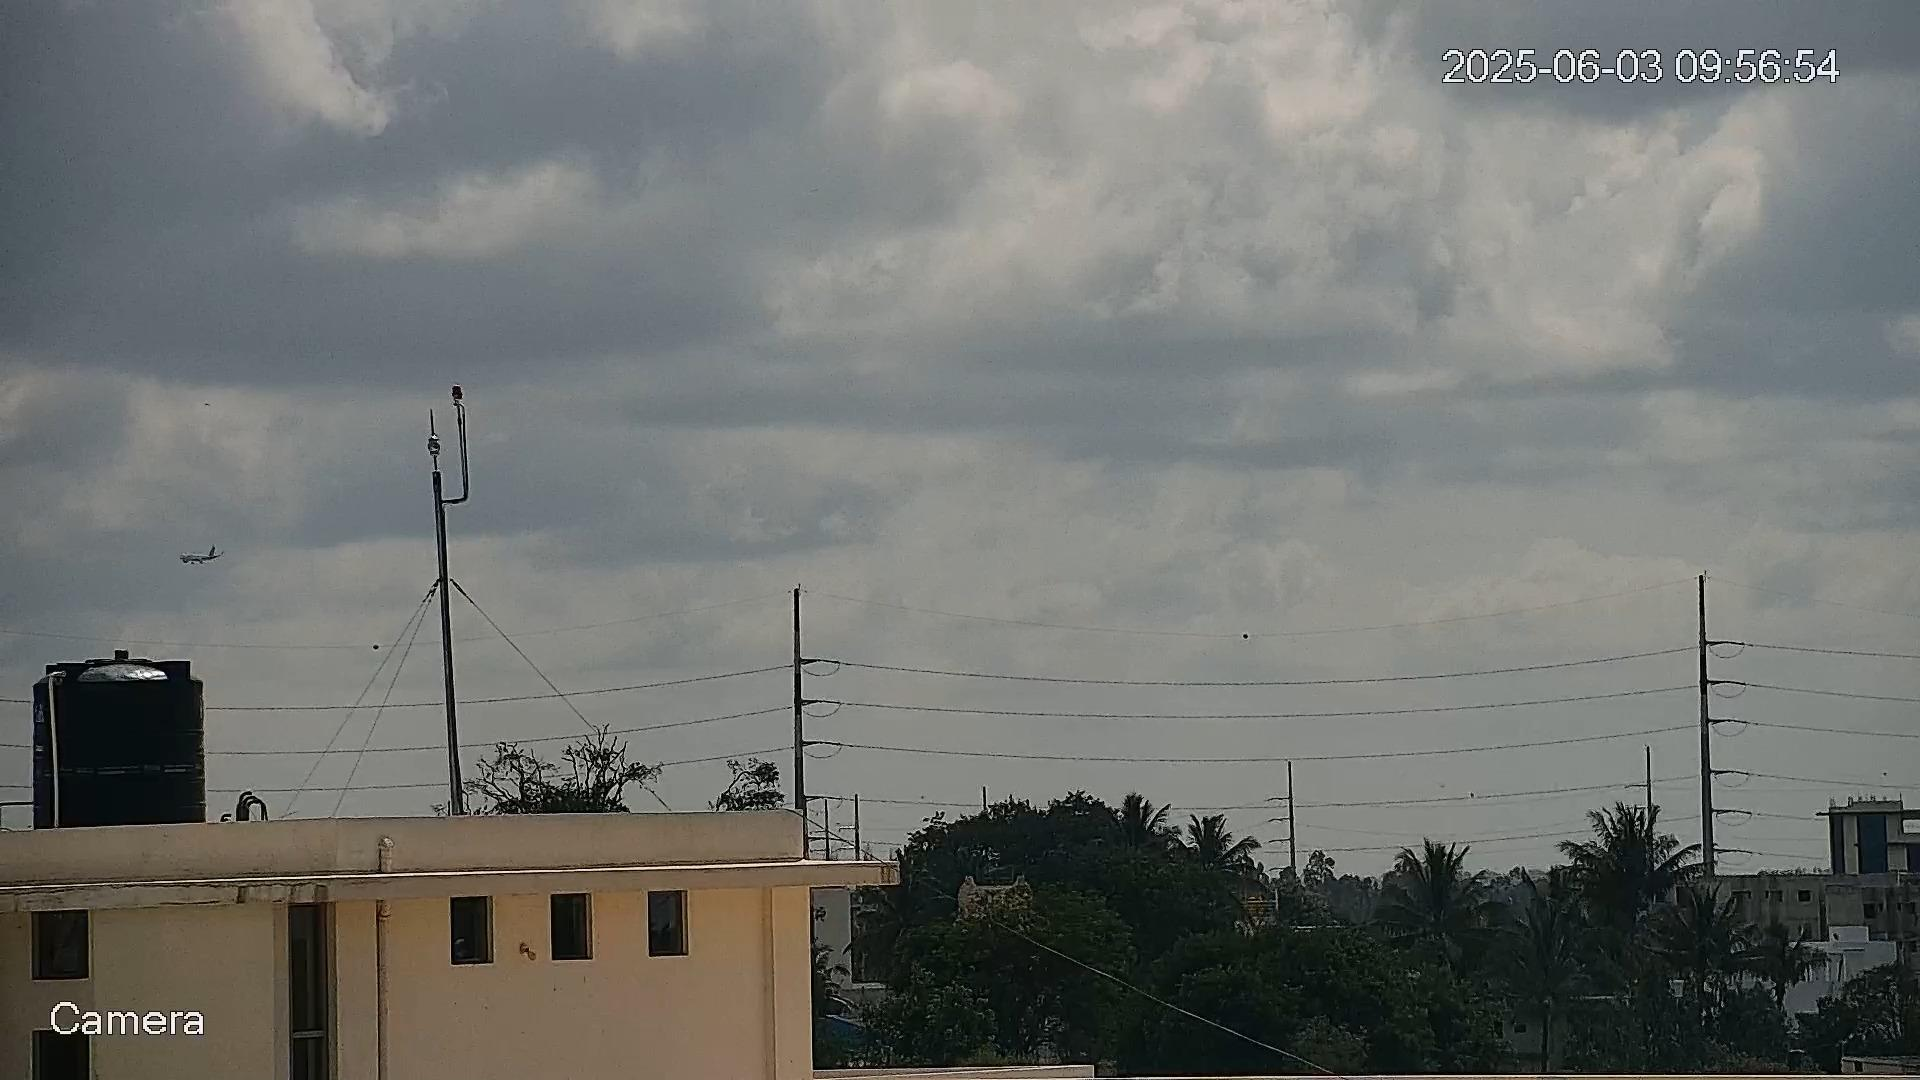Aircraft: (179, 546, 223, 566)
